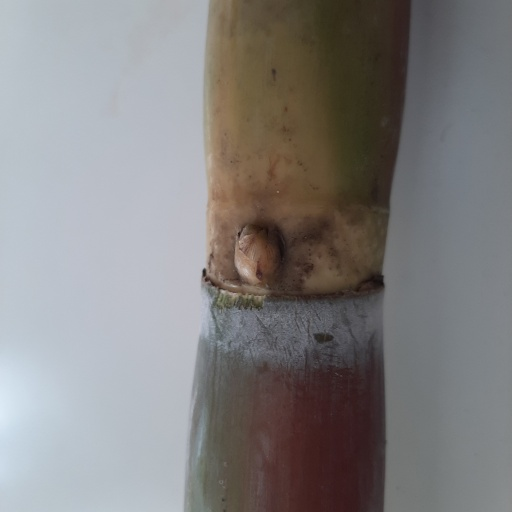Bud: (234, 222, 284, 287)
